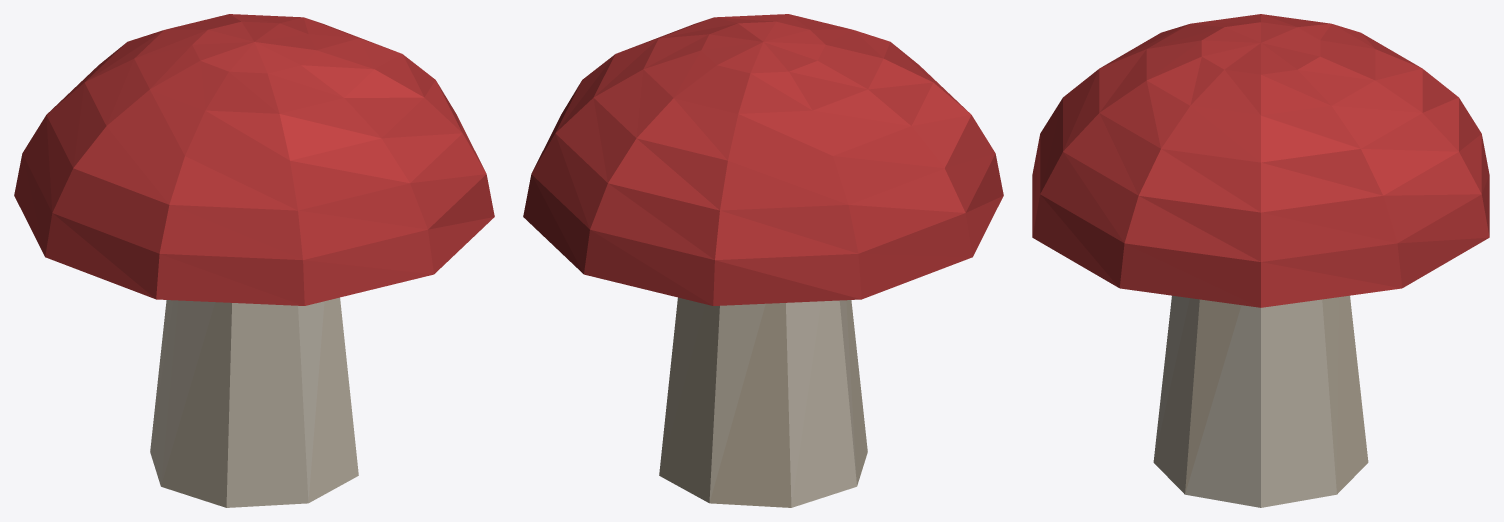
File: mushroom.glb
3 views of the same model, side by side, from view 1: azimuth 30°, elevation 25°; view 2: azimuth 150°, elevation 25°; view 3: azimuth 270°, elevation 25° (orthographic).
Size of the model in its own units: 1.7 by 1.64 by 1.62.
